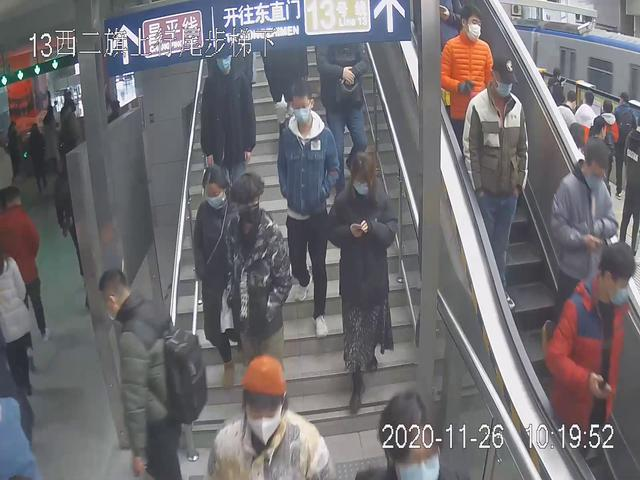person: (94, 260, 207, 480), (318, 146, 404, 416), (545, 239, 634, 473), (458, 47, 531, 321), (219, 170, 293, 405), (276, 78, 342, 340), (547, 126, 617, 332)
